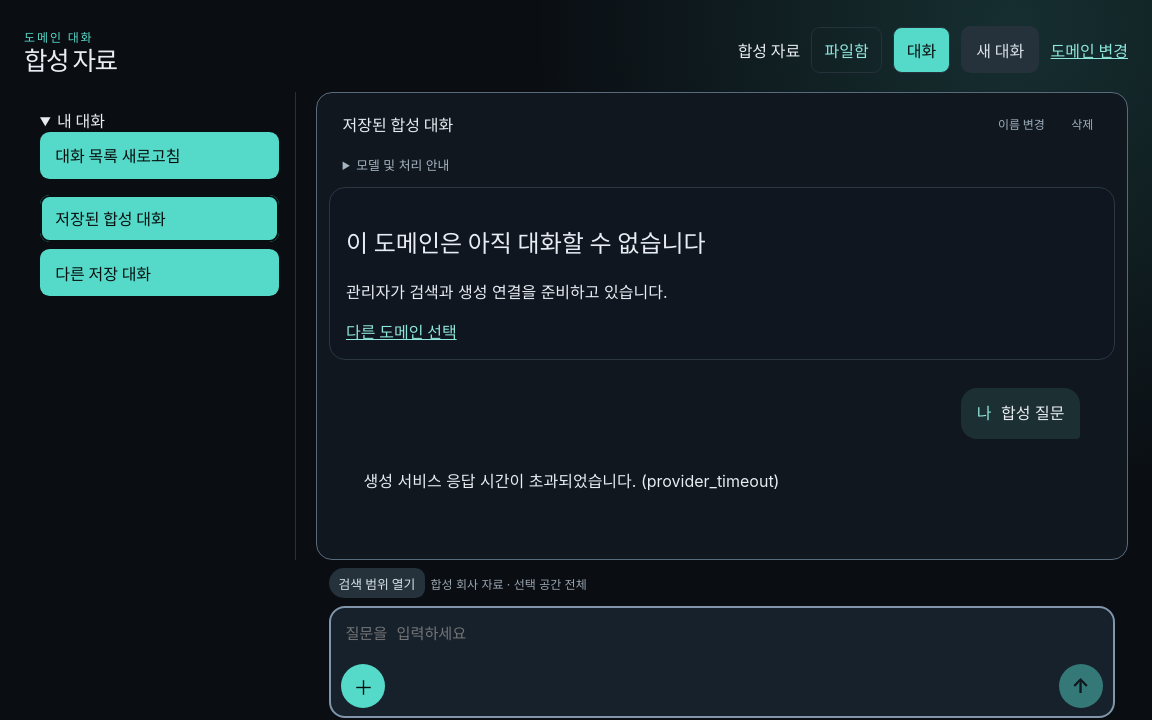
Scenario: ignores attachment rows returned after selecting another conversation
The width and height of the screenshot is (1152, 720).
Expected: the text "합성 질문" is shown, x1=1001 y1=403 x2=1064 y2=423
Click the button "다른 저장 대화" at [160, 273], box x1=40 y1=249 x2=279 y2=296
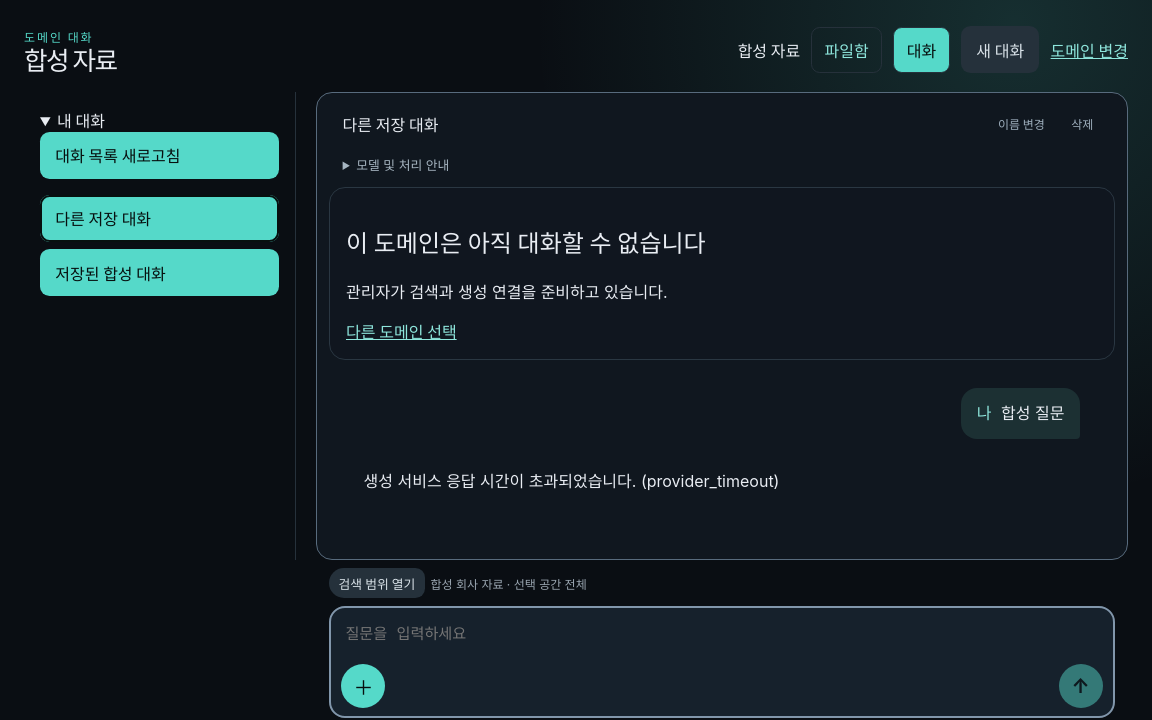
Expected: the heading "다른 저장 대화" is shown, x1=343 y1=115 x2=438 y2=135
